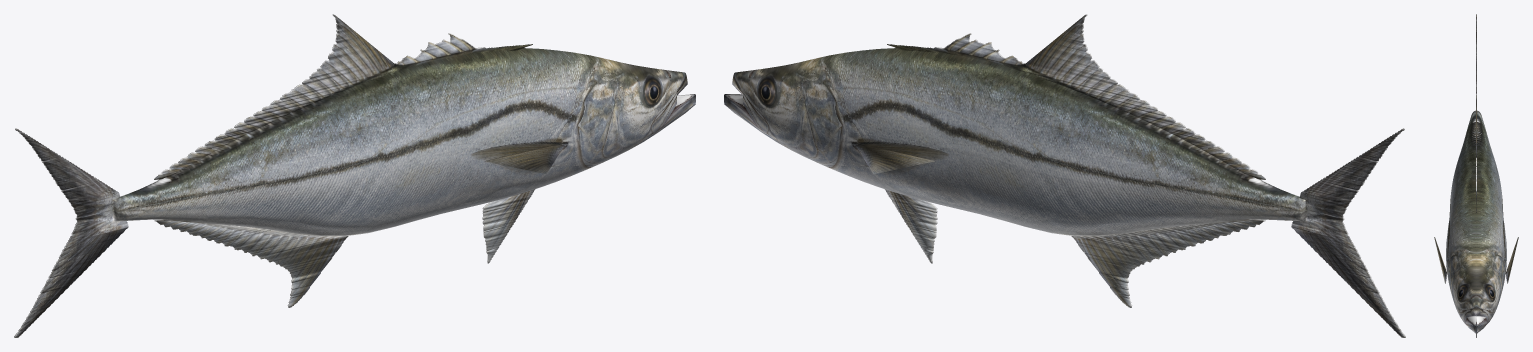
The model's file is leervis.glb.
3 views of the same model, side by side, from view 1: azimuth 30°, elevation 25°; view 2: azimuth 150°, elevation 25°; view 3: azimuth 270°, elevation 25° (orthographic). The views are drawn at different scales.
Visible parts, largest first — view 1: leervis_realistic; view 2: leervis_realistic; view 3: leervis_realistic.
Boxes of the visible parts, x1,y1,x2,y2 form: leervis_realistic: (14, 14, 695, 337); leervis_realistic: (724, 14, 1405, 337); leervis_realistic: (1434, 14, 1518, 337).
Bounding box in the file's own units: 1 × 0.4024 × 0.1598.
3 materials, 3 textured.
